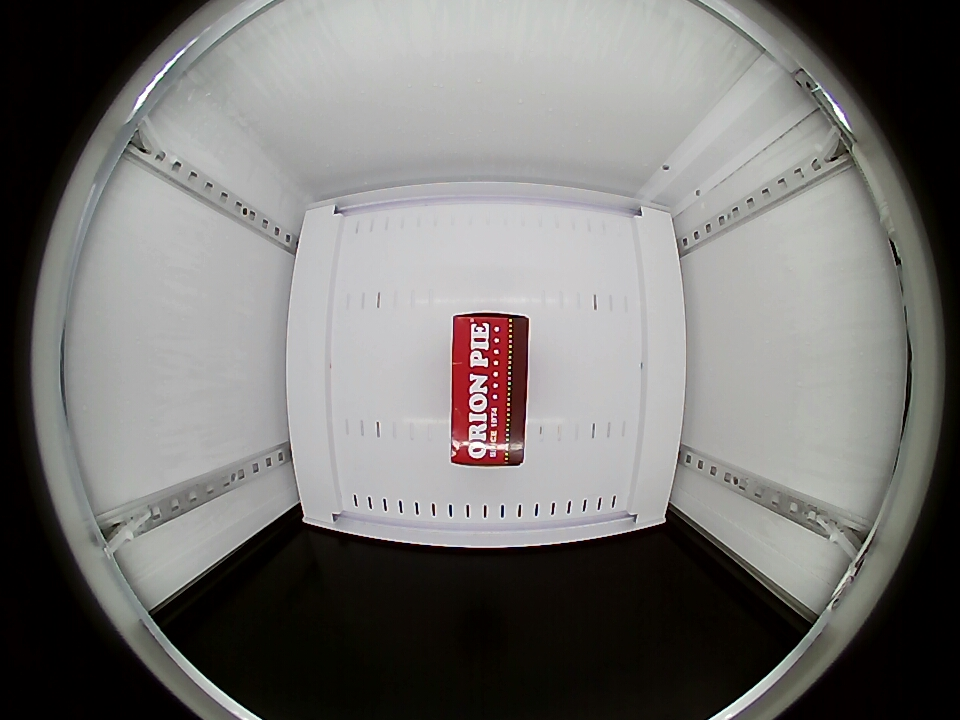haoliyou: (452, 313, 528, 467)
